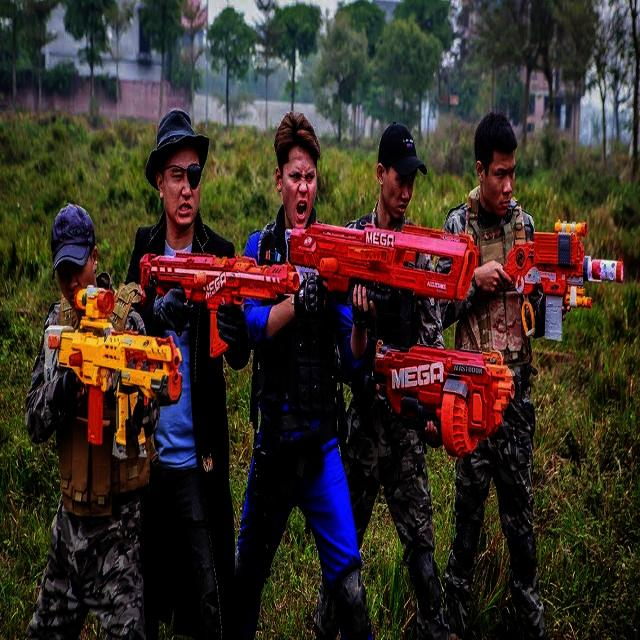Nerf gun: (36, 281, 182, 464), (367, 332, 518, 472), (135, 235, 301, 361), (286, 212, 480, 312), (496, 216, 628, 348)
